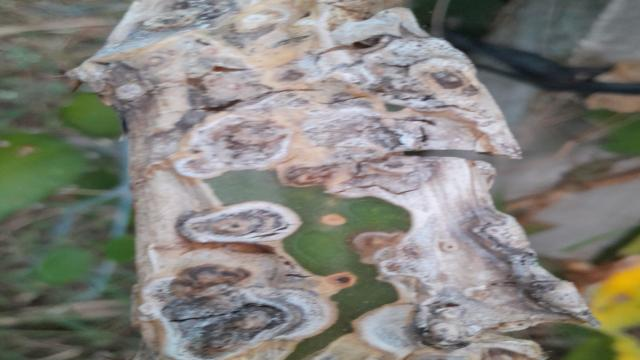stemcanker: (309, 193, 358, 239)
